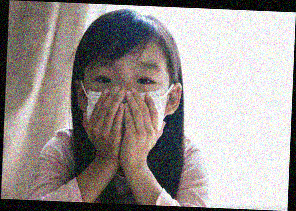with_mask: (82, 59, 172, 157)
